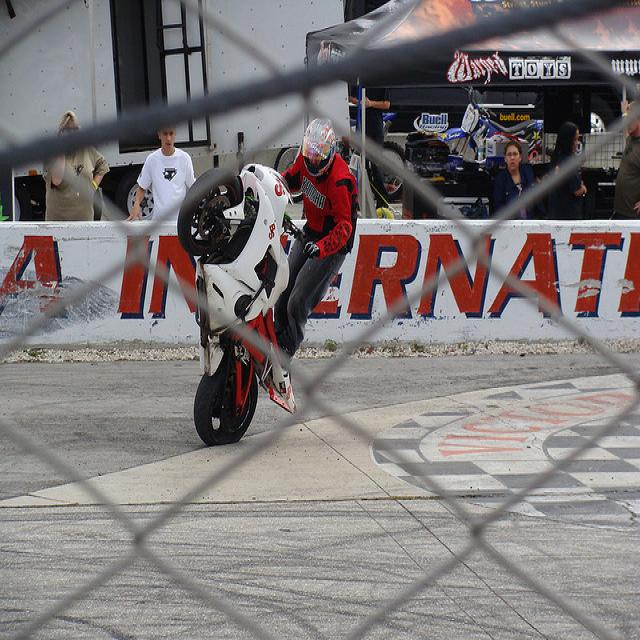motor: (179, 158, 314, 446), (439, 81, 546, 161)
